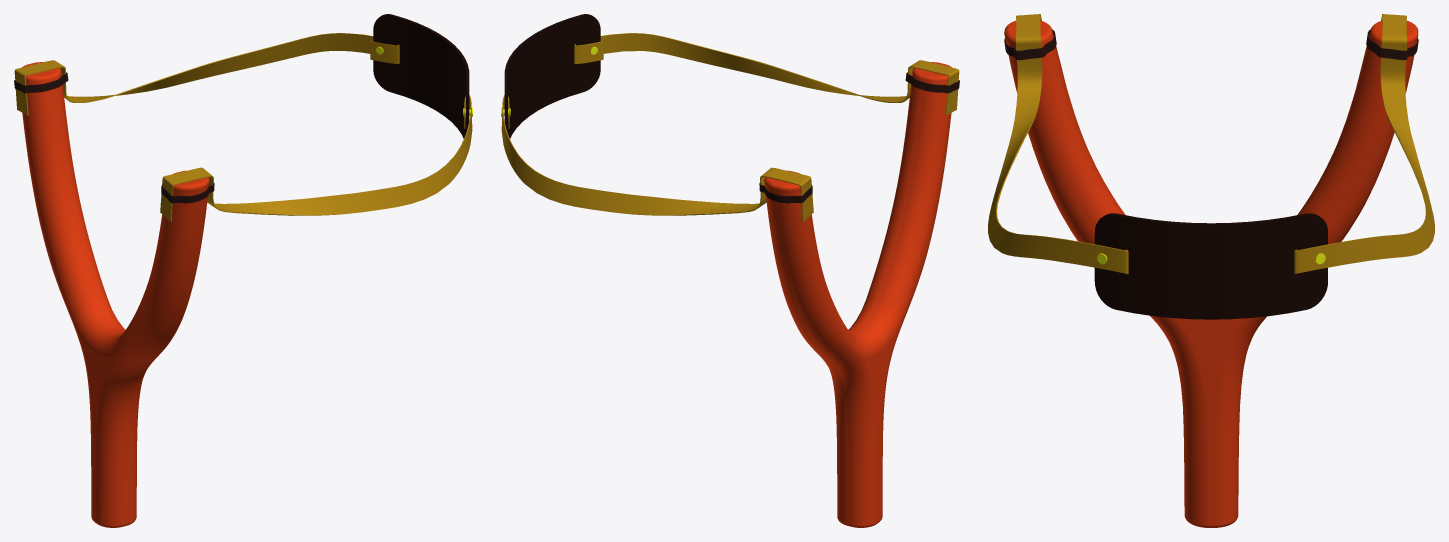
File: Slingshot.fbx
3 renders of one model, left to right at view 1: azimuth 30°, elevation 25°; view 2: azimuth 150°, elevation 25°; view 3: azimuth 270°, elevation 25°, orthographic. The views are drawn at different scales.
Visible parts, largest first — view 1: Handle, Leather, Strap left, Strap right; view 2: Handle, Leather, Strap right, Strap left; view 3: Handle, Leather, Strap right, Strap left, Mounting left, Mounting right.
Part boxes in pixels (x1,y1,x2,y2): Handle: [22, 62, 209, 527]; Leather: [373, 14, 469, 138]; Strap left: [160, 95, 472, 222]; Strap right: [14, 33, 399, 115]; Handle: [764, 62, 951, 527]; Leather: [504, 14, 600, 138]; Strap right: [501, 95, 813, 222]; Strap left: [574, 33, 959, 115]; Handle: [1004, 20, 1418, 527]; Leather: [1094, 213, 1327, 319]; Strap right: [1294, 14, 1434, 273]; Strap left: [988, 14, 1128, 273]; Mounting left: [1004, 29, 1056, 60]; Mounting right: [1366, 29, 1418, 60].
Bounding box in the file's own units: 20.3 × 21.89 × 17.95.
